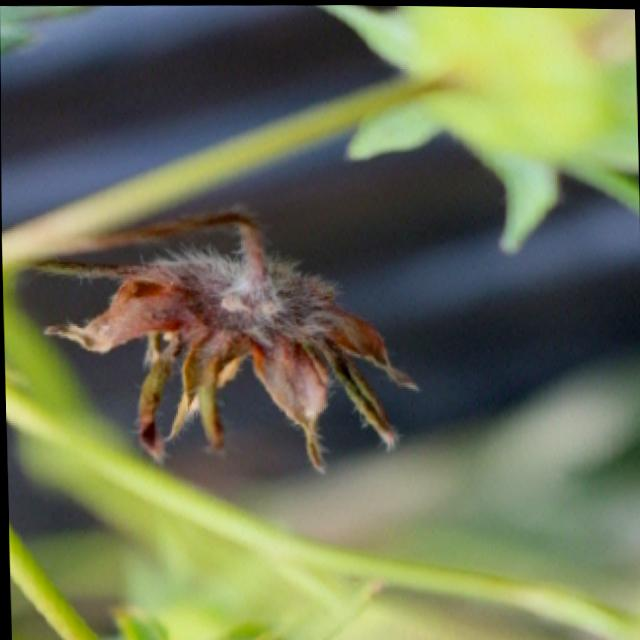Gray Mold: (42, 229, 415, 471)
